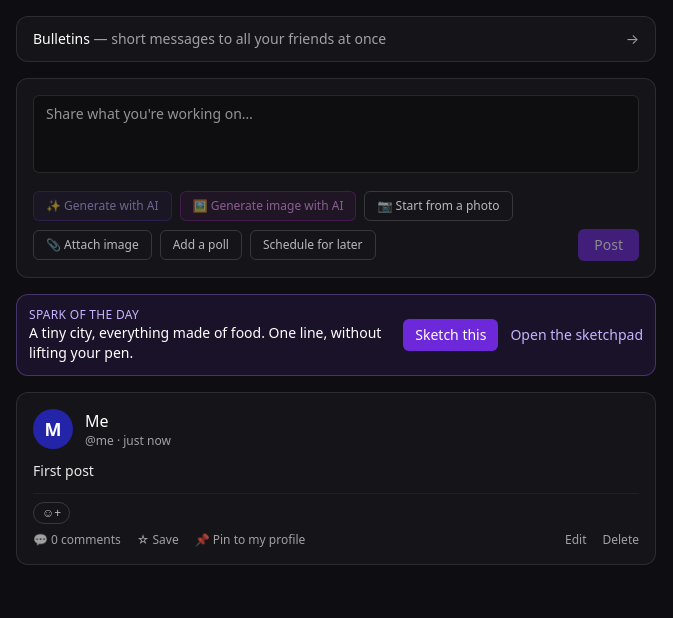
Scenario: FeedPage › keeps the post and shows a message if deleting fails
Click the button "Delete": point(621, 540) [602,532,639,548]
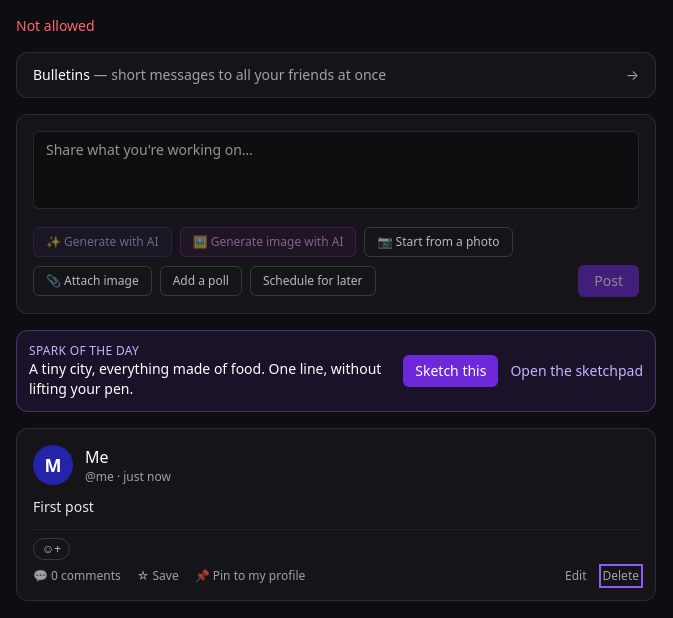
Check: the text "First post" is shown, box [33,497,94,516]
Check: the text "Not allowed" is shown, box [16,16,95,35]
